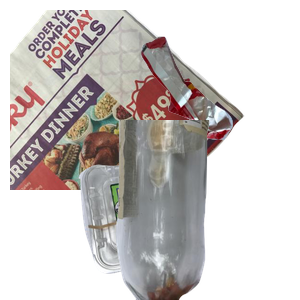glass: (113, 120, 300, 300)
paper: (10, 10, 247, 190)
plastic: (76, 151, 270, 300)
trash: (139, 34, 300, 167)
